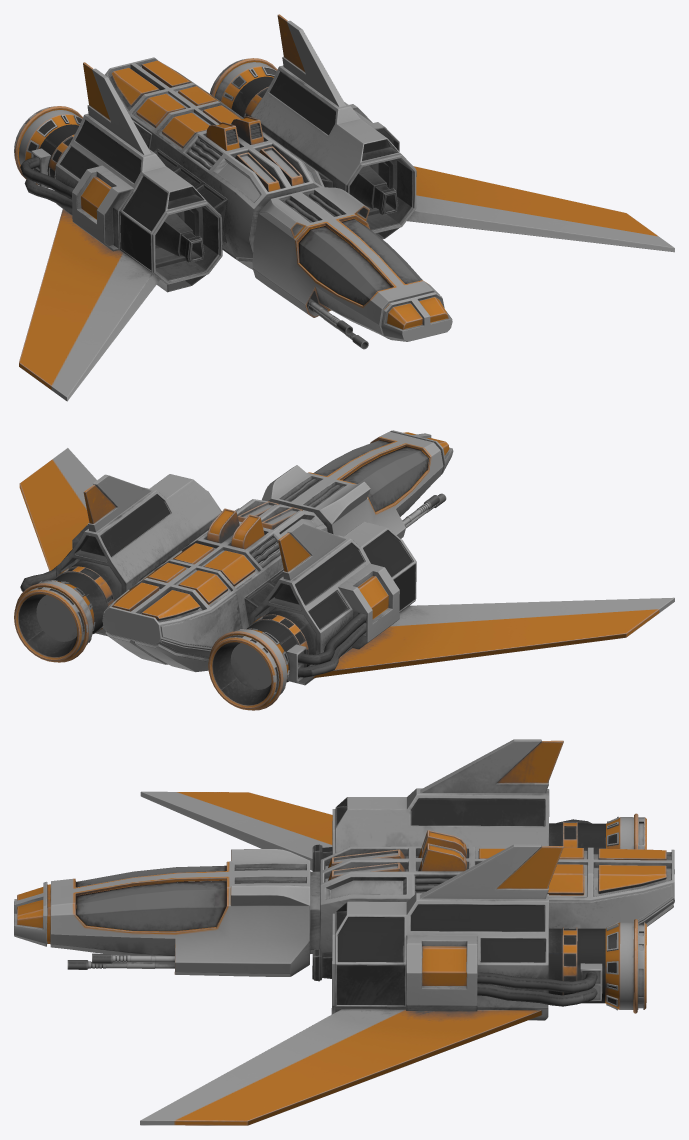
The model's file is spaceship.obj.
3 renders of one model, top to bottom at view 1: azimuth 30°, elevation 25°; view 2: azimuth 150°, elevation 25°; view 3: azimuth 270°, elevation 25°, orthographic. The views are drawn at different scales.
Parts seen in each view (by area): view 1: submesh; view 2: submesh; view 3: submesh.
Part boxes in pixels (<box>): submesh: <box>14,14,674,401</box>; submesh: <box>14,430,674,710</box>; submesh: <box>14,739,674,1125</box>.
Size of the model in its own units: 2592 by 651 by 2189.
1 material, 1 textured.
